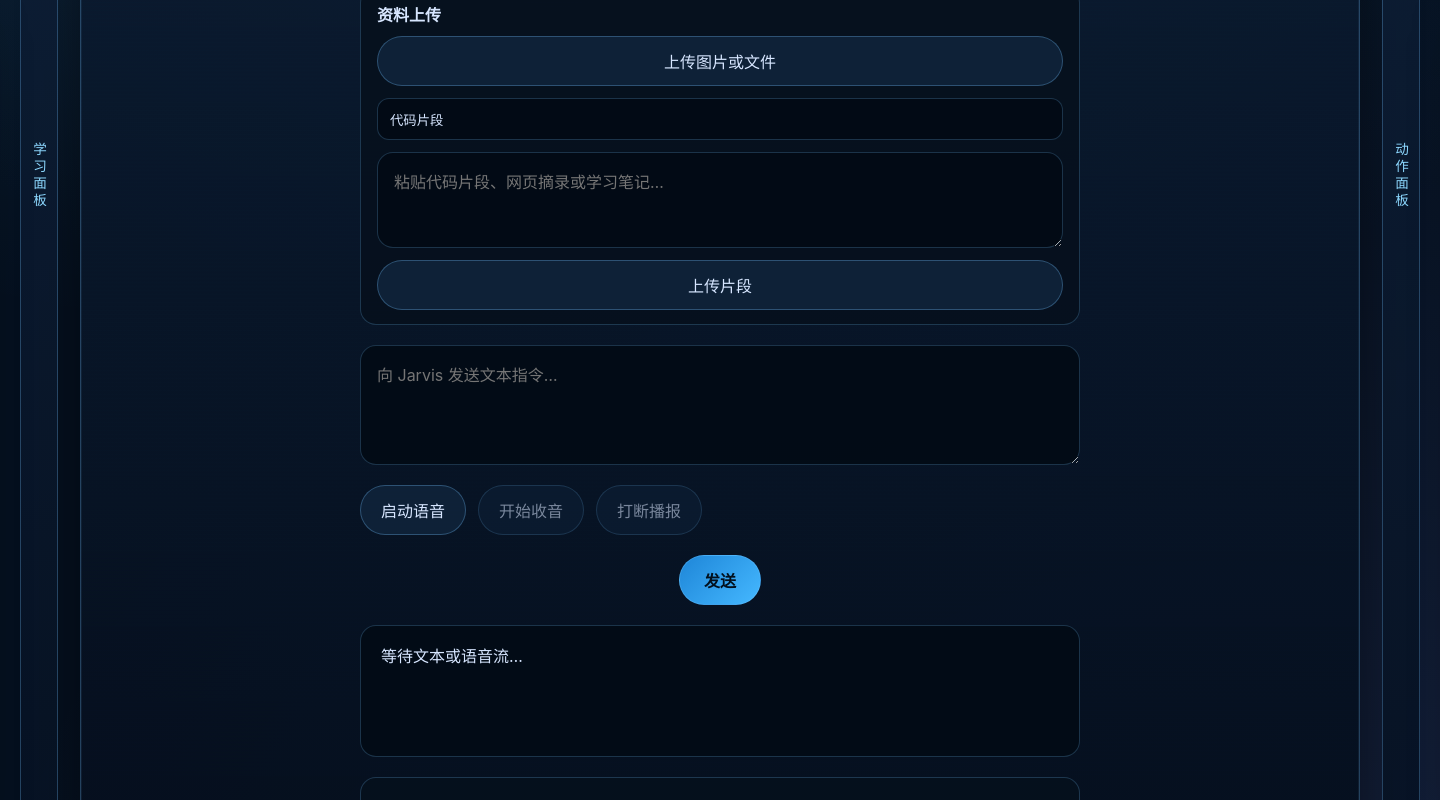
Scenario: plain text send without wakeword does not append the wakeword reminder to chat reply
(page scrolled)
Step 1. Type "hello" into the text box with placeholder "向 Jarvis 发送文本指令…" → (720, 405), box [360,345,1080,465]
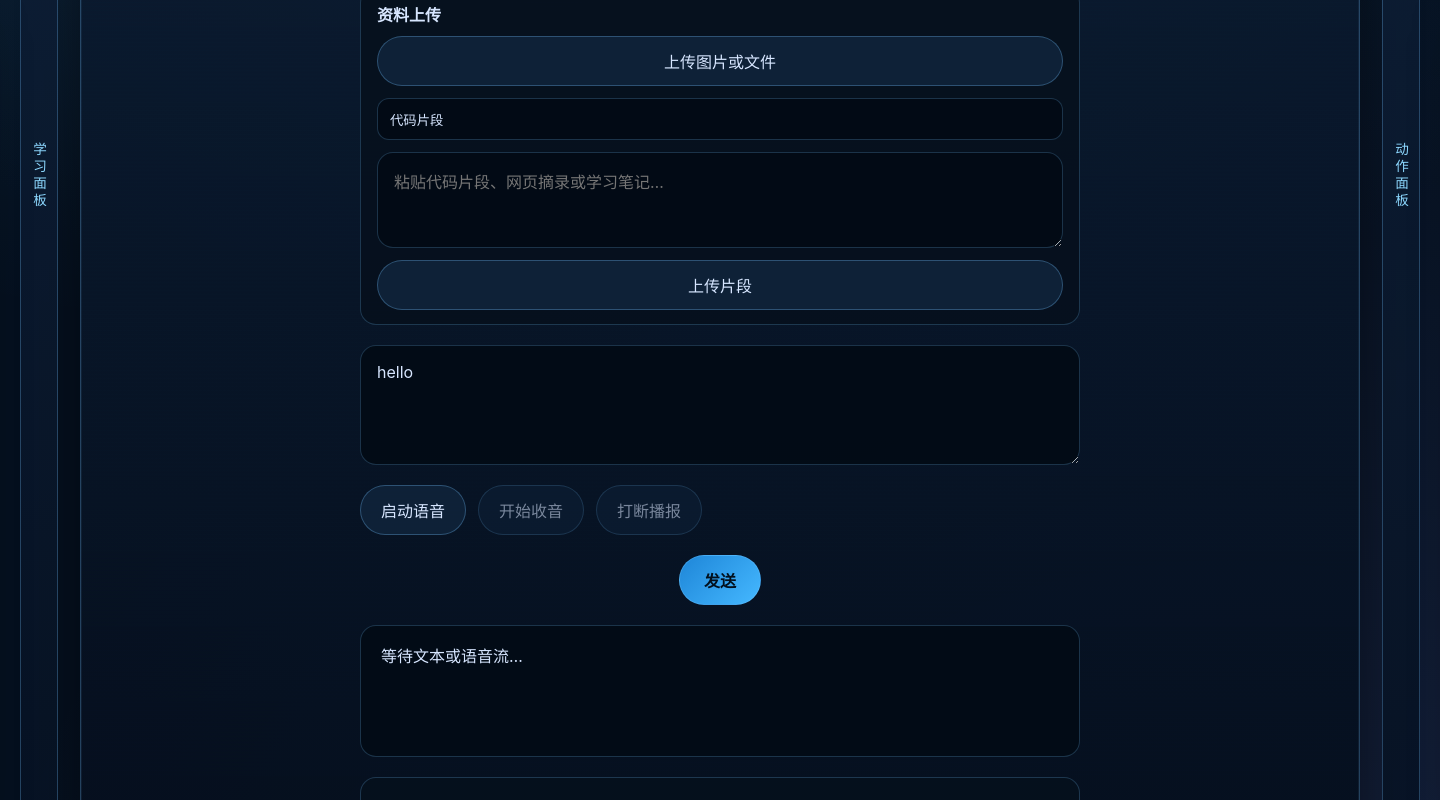
Step 2. Click the button "发送" → (720, 580), box [679,555,761,605]
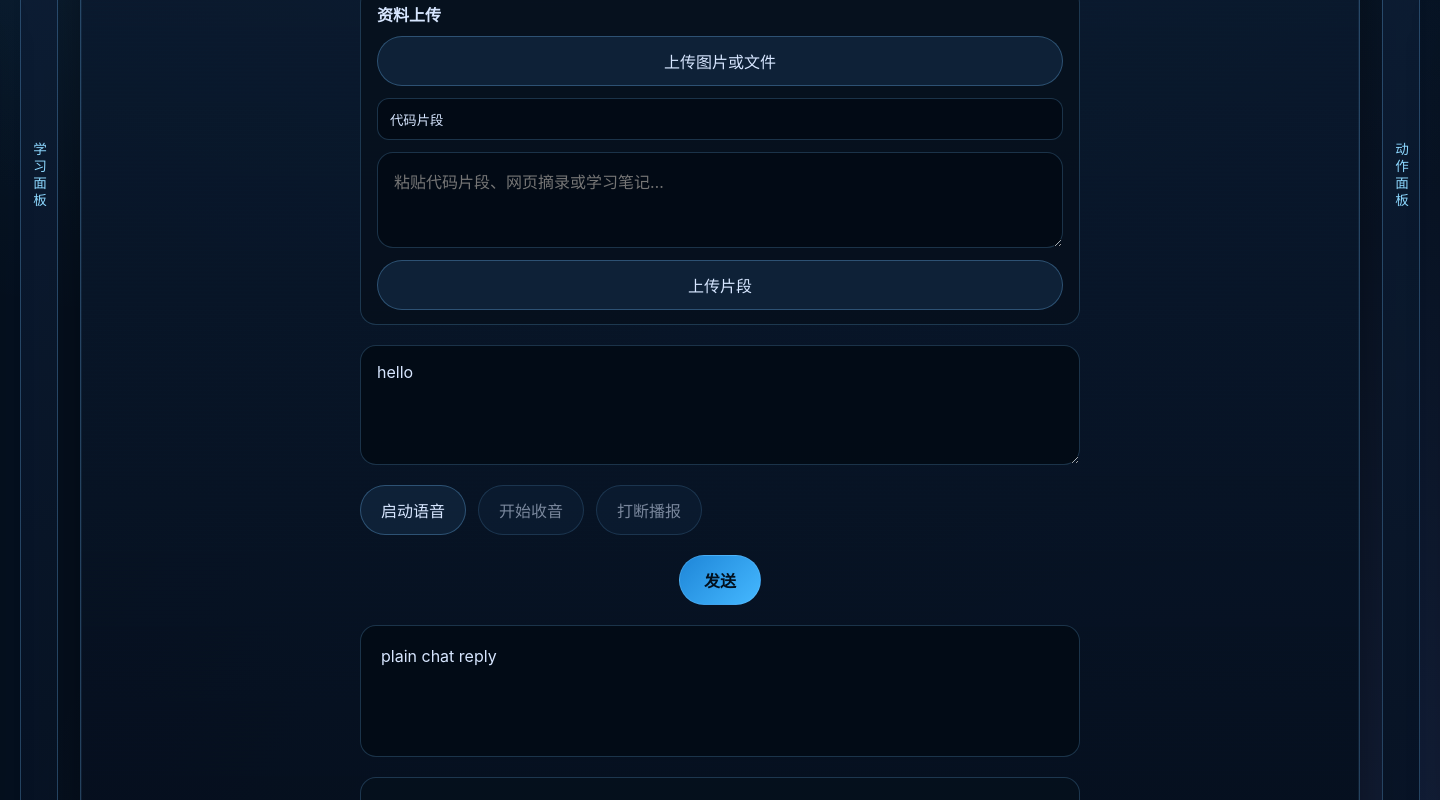
Expected: the text with class "reply-card" reads "plain chat reply", [381,646,497,666]
